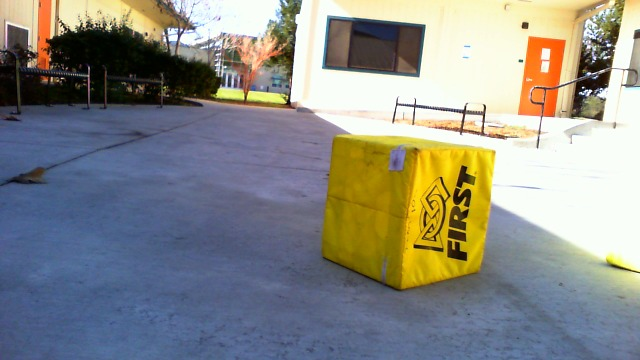cube: (318, 128, 497, 288)
